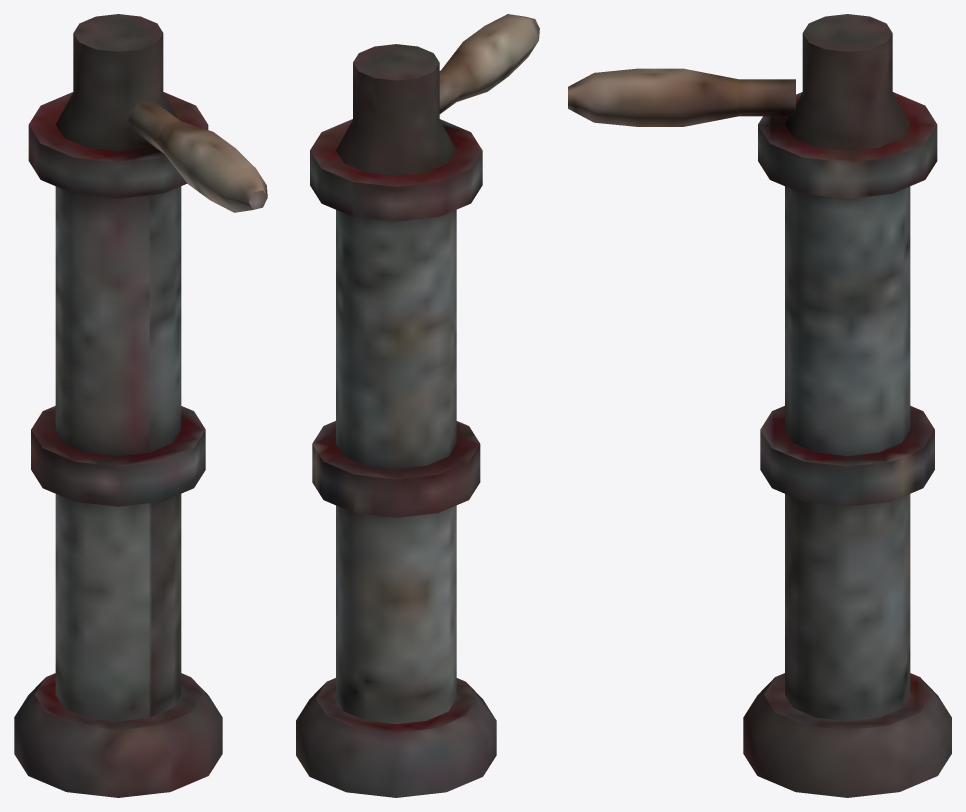
Rendered from ToiletPipe.FBX.
3 views of the same model, side by side, from view 1: azimuth 30°, elevation 25°; view 2: azimuth 150°, elevation 25°; view 3: azimuth 270°, elevation 25° (orthographic). The views are drawn at different scales.
Visible parts, largest first — view 1: ToiletPipe; view 2: ToiletPipe; view 3: ToiletPipe.
Part boxes in pixels (box(x1,y1,x2,y2)): ToiletPipe: box(14, 14, 267, 797); ToiletPipe: box(296, 14, 539, 797); ToiletPipe: box(568, 14, 951, 797).
Bounding box in the file's own units: 8.36 × 31.9 × 15.39.
